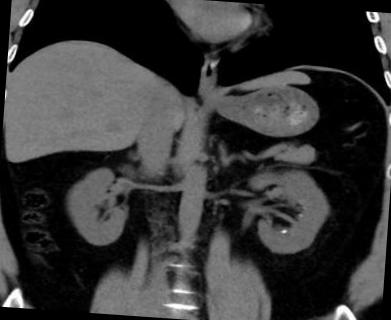Tas_Var: (280, 229, 286, 235), (297, 214, 303, 218)
